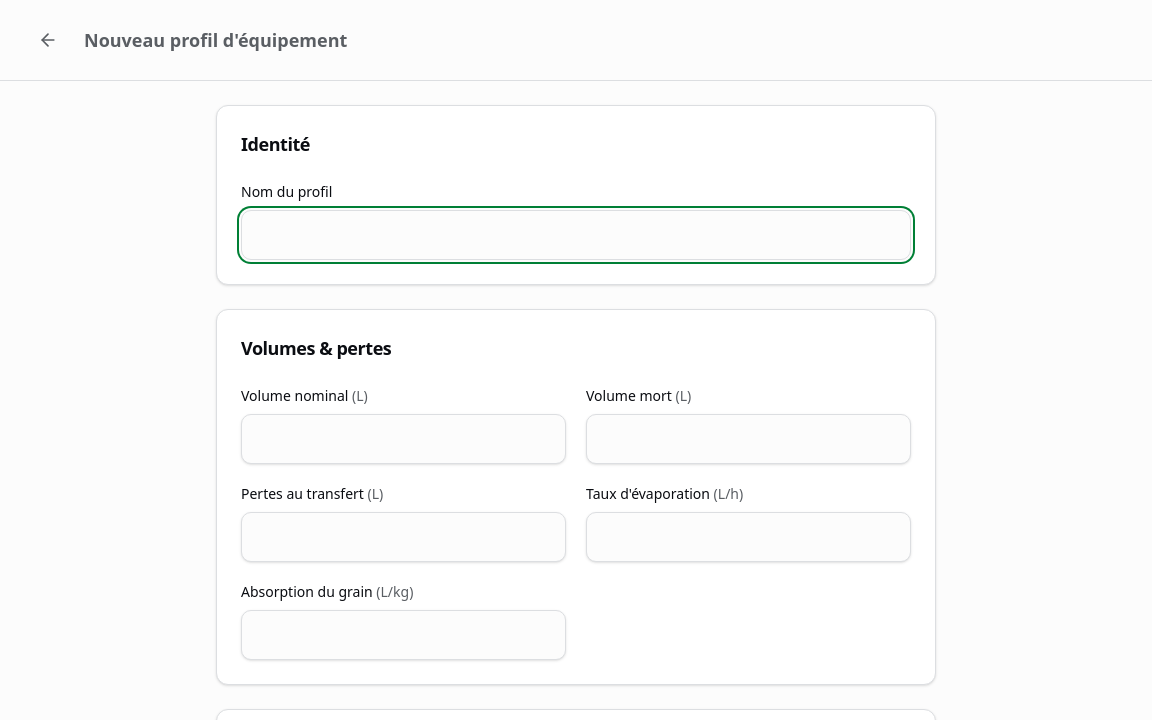
création d'un profil d'équipement › POST le profil puis revient à la liste
Type "Cuve 50L" into the field labelled "Nom du profil" at (576, 235), box [241,210,911,260]
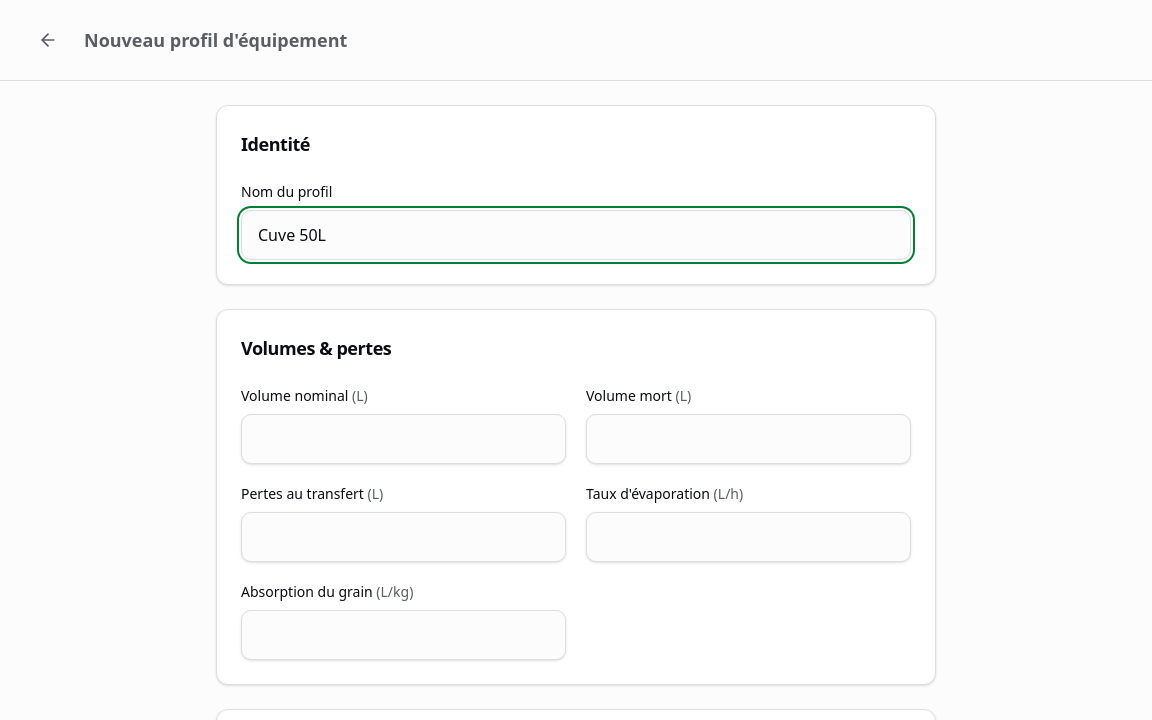
Type "50" into the number field labelled "Volume nominal (L)" at (404, 439), box [241,414,566,464]
(page scrolled)
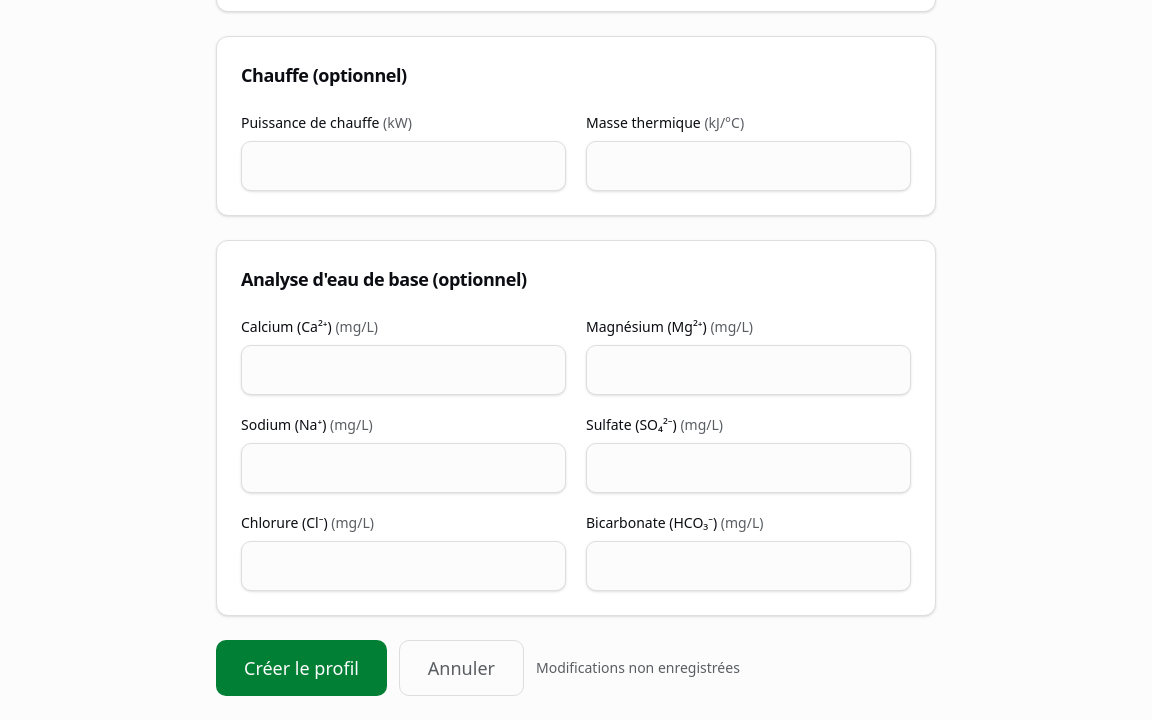
Click the button "Créer le profil" at (301, 668), box [216,640,387,696]
(page scrolled)
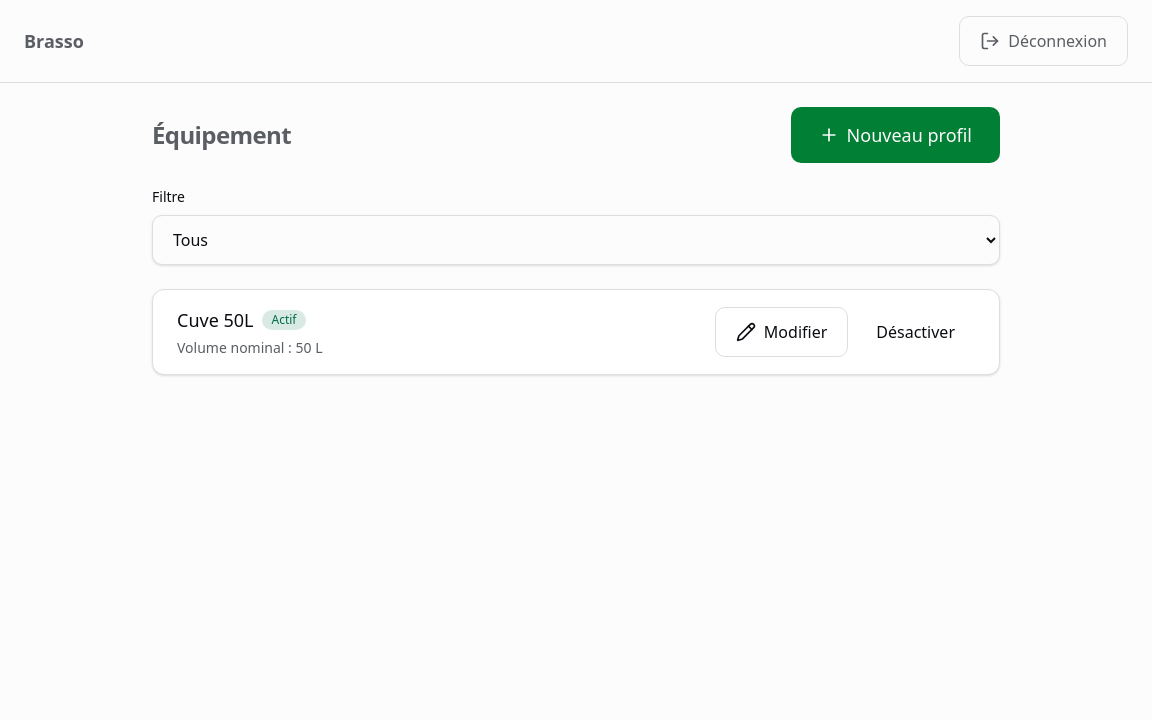
Expected: the heading "Équipement" is shown, [152,119,291,151]
Expected: the text "Cuve 50L" is shown, [177,306,254,334]
